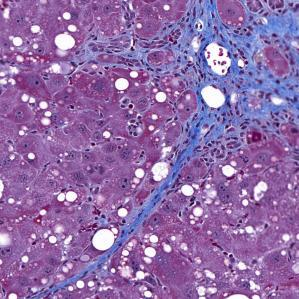fibrosis: (177, 12, 299, 141)
